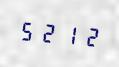five: (18, 16, 37, 45)
one: (58, 19, 77, 48)
two: (78, 21, 97, 50), (38, 18, 57, 46)
